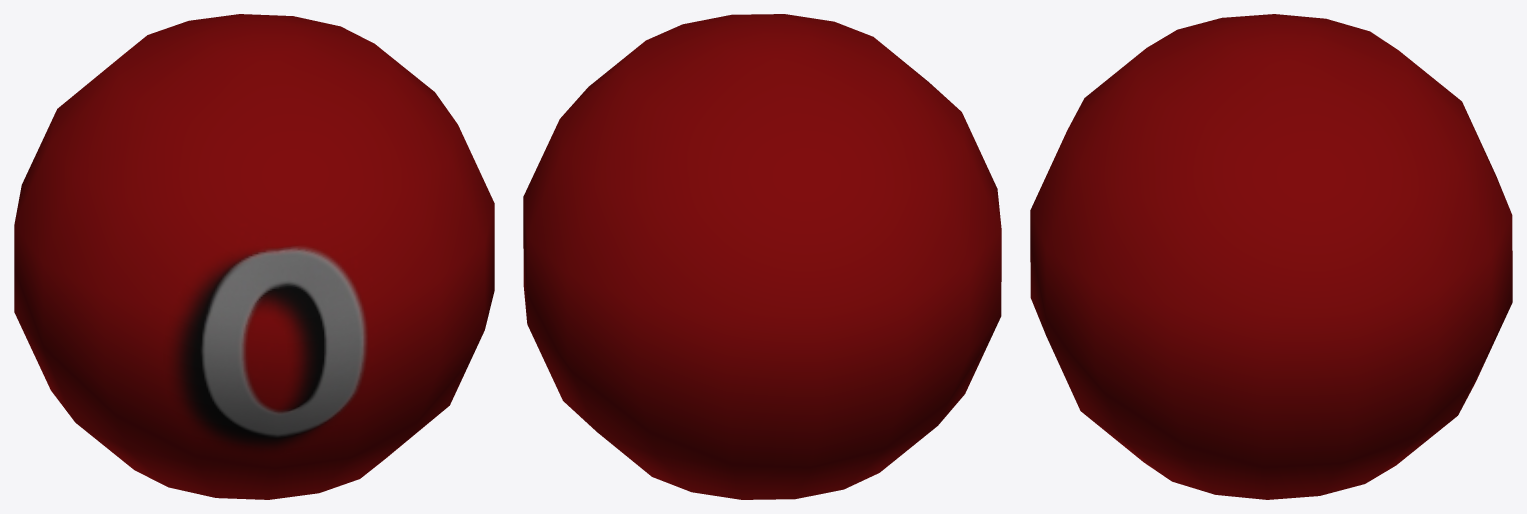
Rendered from Oxygen.gltf.
The picture shows the model from 3 angles, left to right: view 1: azimuth 30°, elevation 25°; view 2: azimuth 150°, elevation 25°; view 3: azimuth 270°, elevation 25°; orthographic projection.
Parts seen in each view (by area): view 1: Oxigen; view 2: Oxigen; view 3: Oxigen.
Boxes of the visible parts, x1=… form: Oxigen: x1=14, y1=14, x2=494, y2=499; Oxigen: x1=523, y1=14, x2=1001, y2=499; Oxigen: x1=1030, y1=14, x2=1512, y2=499.
Size of the model in its own units: 1.3 by 1.33 by 1.3.
1 material, 1 textured.
